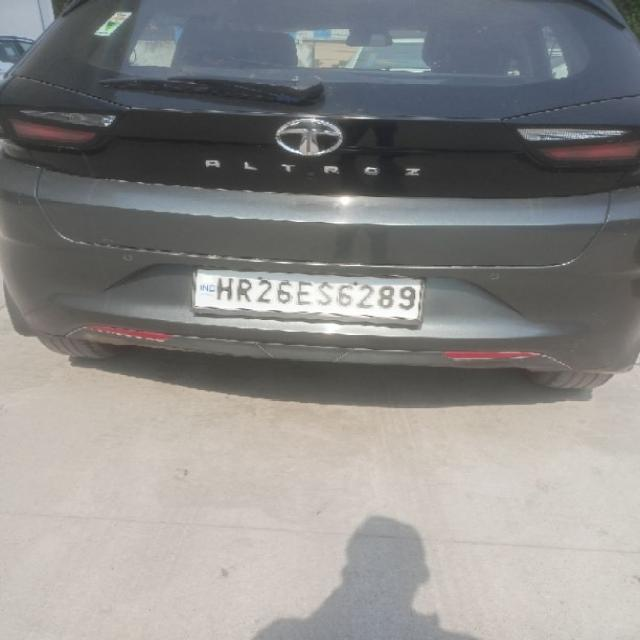license_plate: (188, 265, 425, 326)
